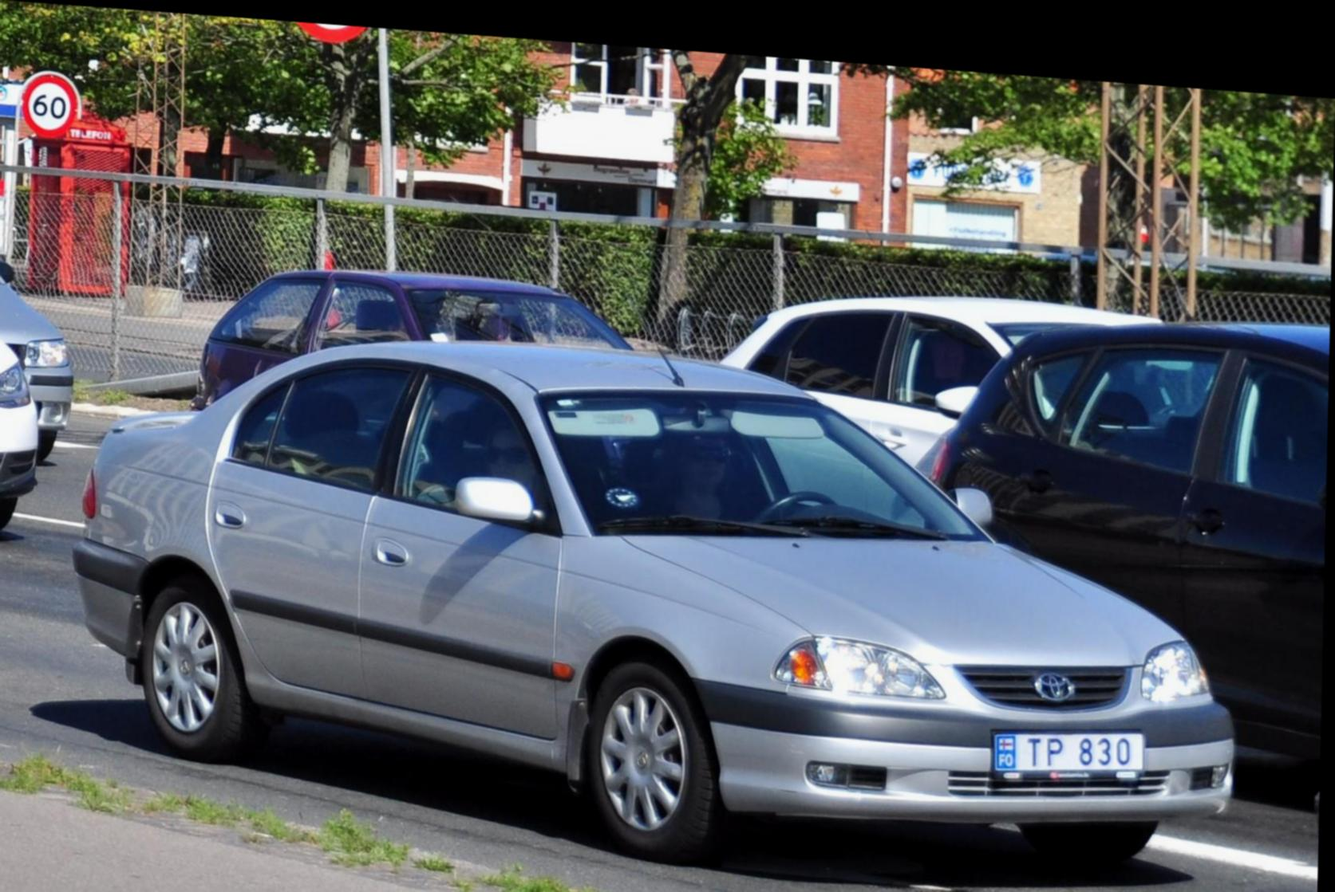License_Plate: (966, 716, 1175, 802), (983, 729, 1154, 796)
